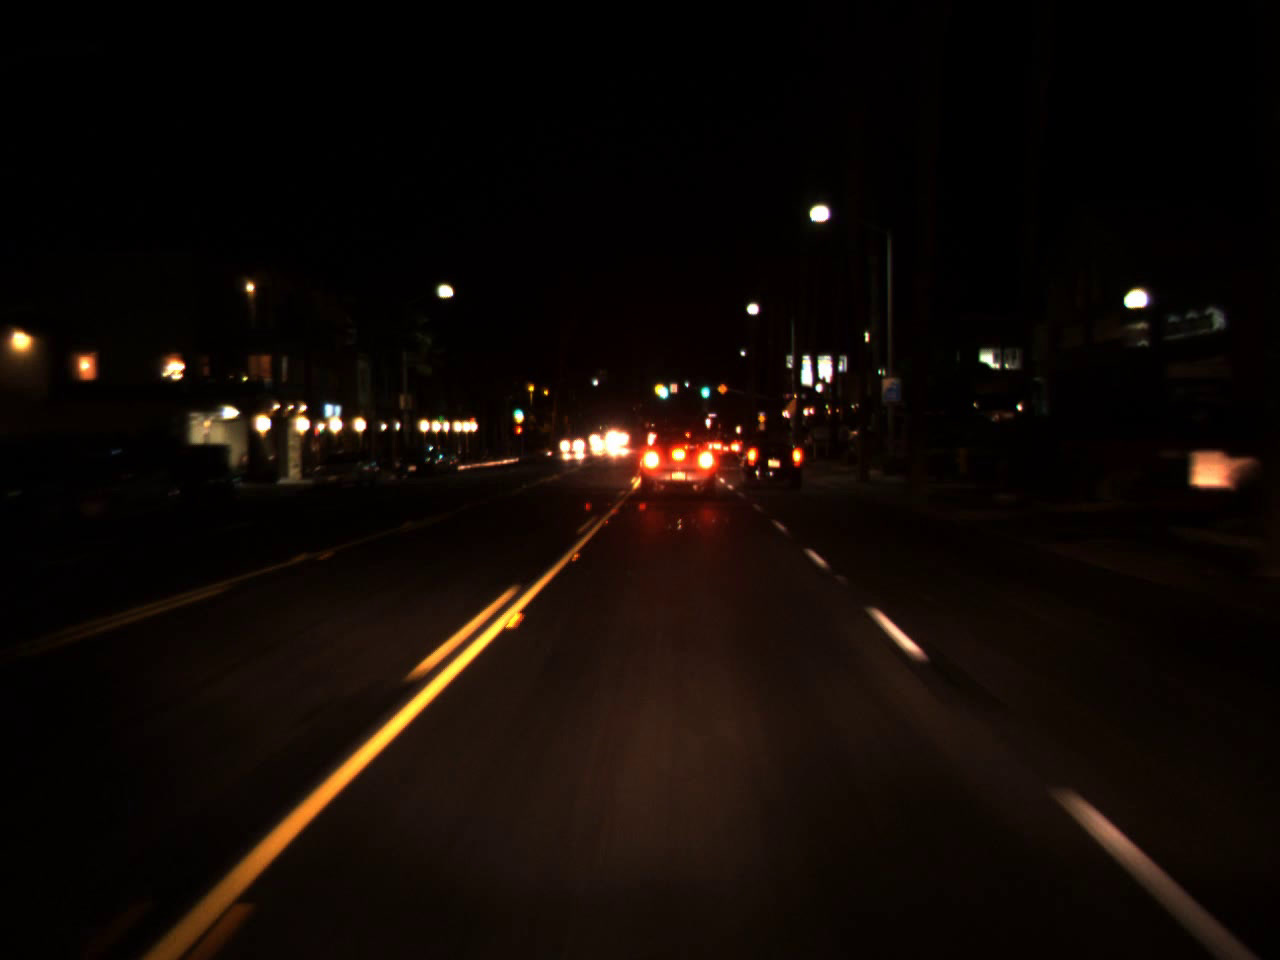go: (655, 374, 669, 401), (698, 373, 710, 403), (512, 404, 522, 416)
